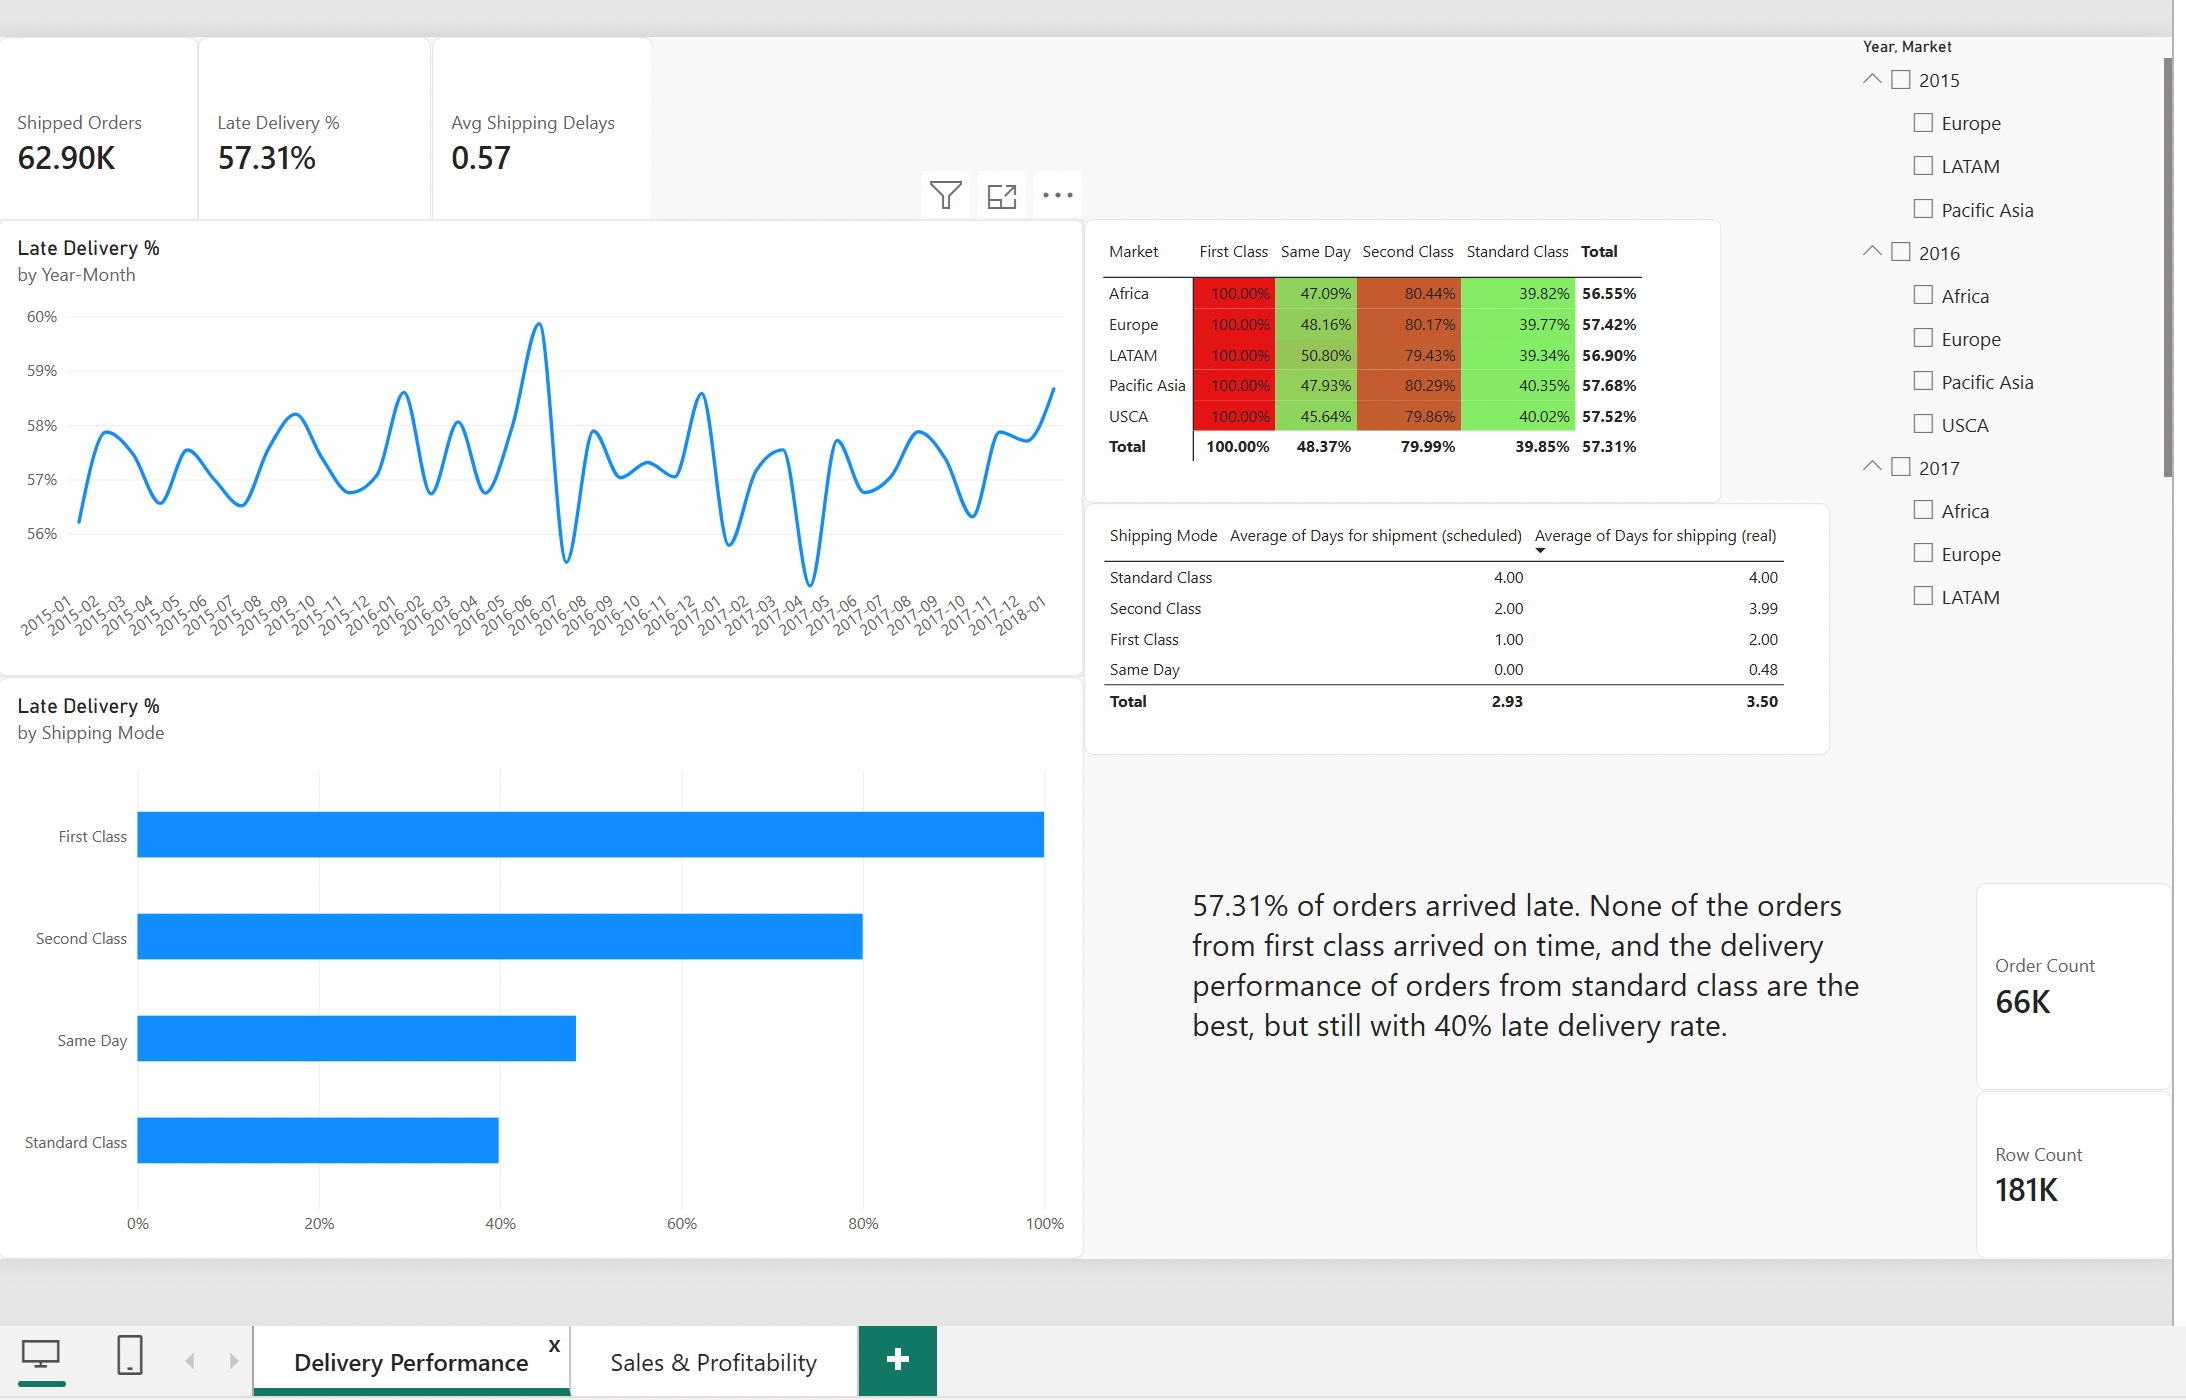

The page's visual inventory and layout, read from the dashboard file:
{"tool":"powerbi","page":{"name":"Delivery Performance","canvas":[1920,1080],"ordinal":0},"visuals":[{"type":"cardVisual","fields":{"Data":["DataCoSupplyChainDataset.Row Count"]},"box":[1746.6,930.4,173.4,148.9],"z":0},{"type":"cardVisual","fields":{"Data":["DataCoSupplyChainDataset.Order Count"]},"box":[1746.6,746.8,173.4,183.6],"z":1000},{"type":"cardVisual","fields":{"Data":["_Measures.Shipped Orders"]},"box":[0,0,177.5,187.7],"z":2000},{"type":"cardVisual","fields":{"Data":["_Measures.Late Delivery %"]},"box":[177.5,0,206.1,187.7],"z":3000},{"type":"cardVisual","fields":{"Data":["_Measures.Avg Shipping Delays"]},"box":[383.6,0,195.9,187.7],"z":4000},{"type":"clusteredBarChart","fields":{"Category":["FactOrderItems.Shipping Mode"],"Y":["_Measures.Late Delivery %"]},"box":[0,565.2,959,514.2],"z":5000},{"type":"tableEx","fields":{"Values":["FactOrderItems.Shipping Mode","Avg(FactOrderItems.Days for shipment (scheduled))","Avg(FactOrderItems.Days for shipping (real))"]},"box":[959,412.2,659,222.4],"z":6000},{"type":"pivotTable","fields":{"Columns":["FactOrderItems.Shipping Mode"],"Rows":["FactOrderItems.Market"],"Values":["_Measures.Late Delivery %"]},"box":[959,161.2,563.1,251],"z":7000},{"type":"lineChart","fields":{"Category":["DimDate.Year-Month"],"Y":["_Measures.Late Delivery %"]},"box":[0,161.2,959,404],"z":8000},{"type":"slicer","fields":{"Values":["DimDate.Year","FactOrderItems.Market"]},"box":[1638.4,0,281.6,508.1],"z":9000},{"type":"textbox","box":[1054.9,746.8,632.5,167.3],"z":10000}]}

Visuals, with their boxes on the page's 1920x1080 design canvas (x1, y1, x2, y2). These are canvas units, not pixel positions in the 2186x1400 screenshot, which may show the page scaled, cropped or inside an application window:
cardVisual - DataCoSupplyChainDataset.Row Count: BBox(1747, 930, 1920, 1079)
cardVisual - DataCoSupplyChainDataset.Order Count: BBox(1747, 747, 1920, 930)
cardVisual - _Measures.Shipped Orders: BBox(0, 0, 178, 188)
cardVisual - _Measures.Late Delivery %: BBox(178, 0, 384, 188)
cardVisual - _Measures.Avg Shipping Delays: BBox(384, 0, 580, 188)
clusteredBarChart - FactOrderItems.Shipping Mode x _Measures.Late Delivery %: BBox(0, 565, 959, 1079)
tableEx - FactOrderItems.Shipping Mode x Avg(FactOrderItems.Days for shipment (scheduled)): BBox(959, 412, 1618, 635)
pivotTable - FactOrderItems.Shipping Mode x FactOrderItems.Market: BBox(959, 161, 1522, 412)
lineChart - DimDate.Year-Month x _Measures.Late Delivery %: BBox(0, 161, 959, 565)
slicer - DimDate.Year x FactOrderItems.Market: BBox(1638, 0, 1920, 508)
textbox: BBox(1055, 747, 1687, 914)
